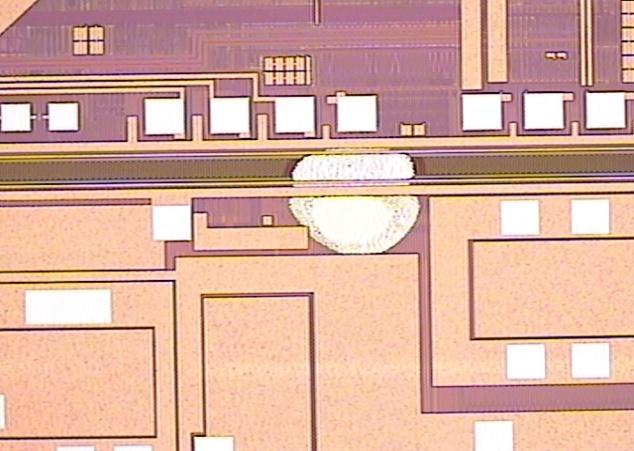BLOCK ETCH: (282, 117, 434, 269)
